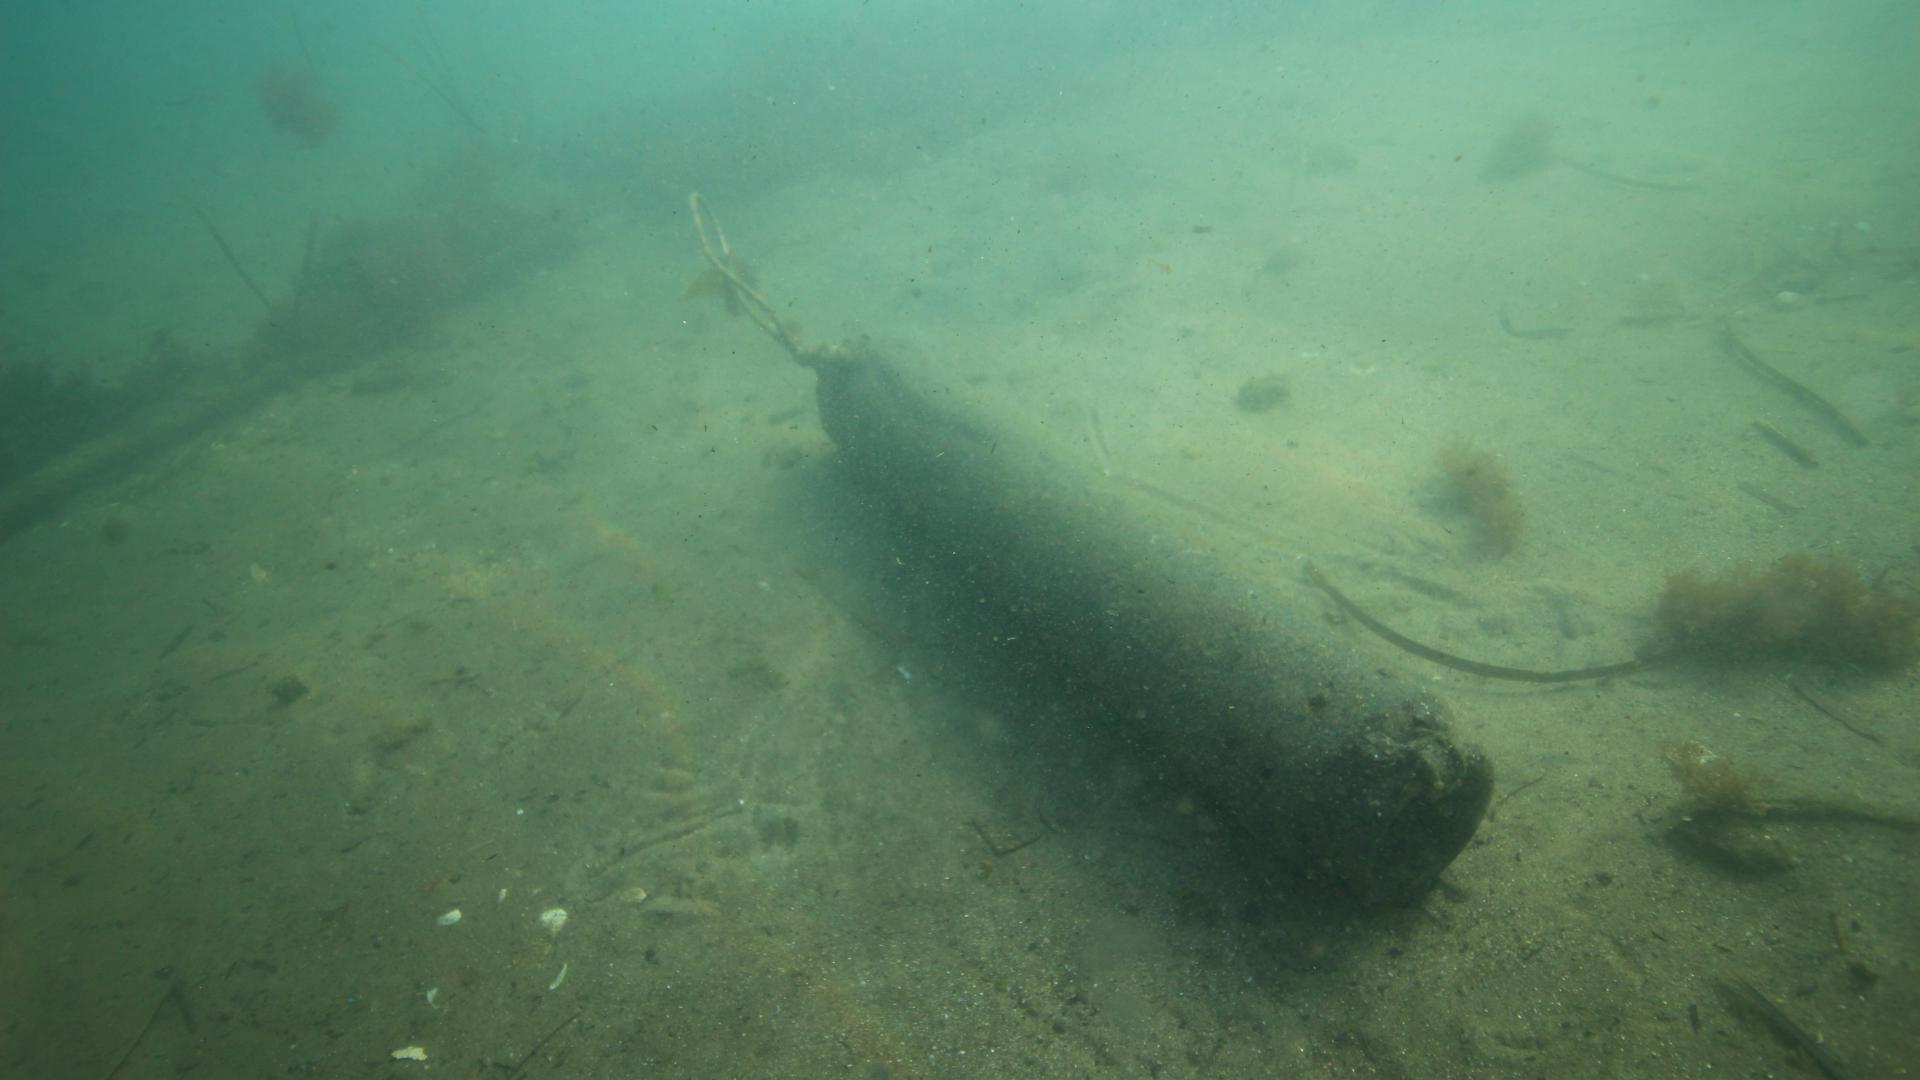bundle of ropes: (686, 189, 847, 369)
eel fish trap: (814, 328, 1494, 907)
